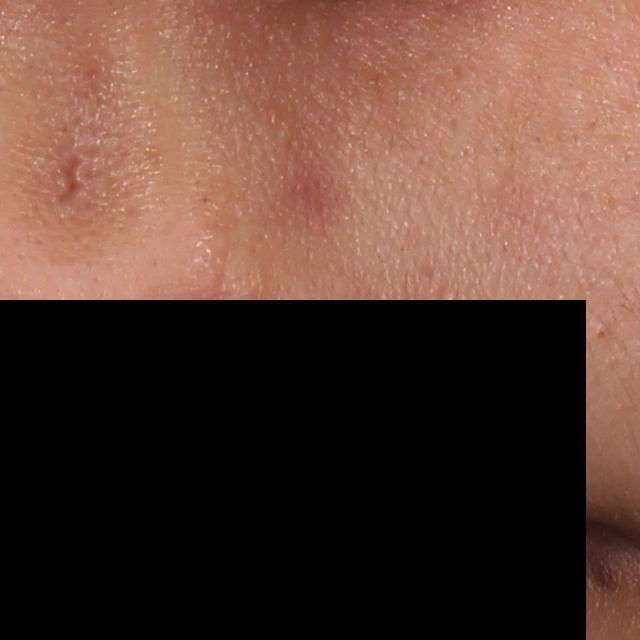atrophic_scar: (55, 147, 89, 215)
comedo: (593, 324, 609, 341)
nevus: (588, 552, 618, 591)
